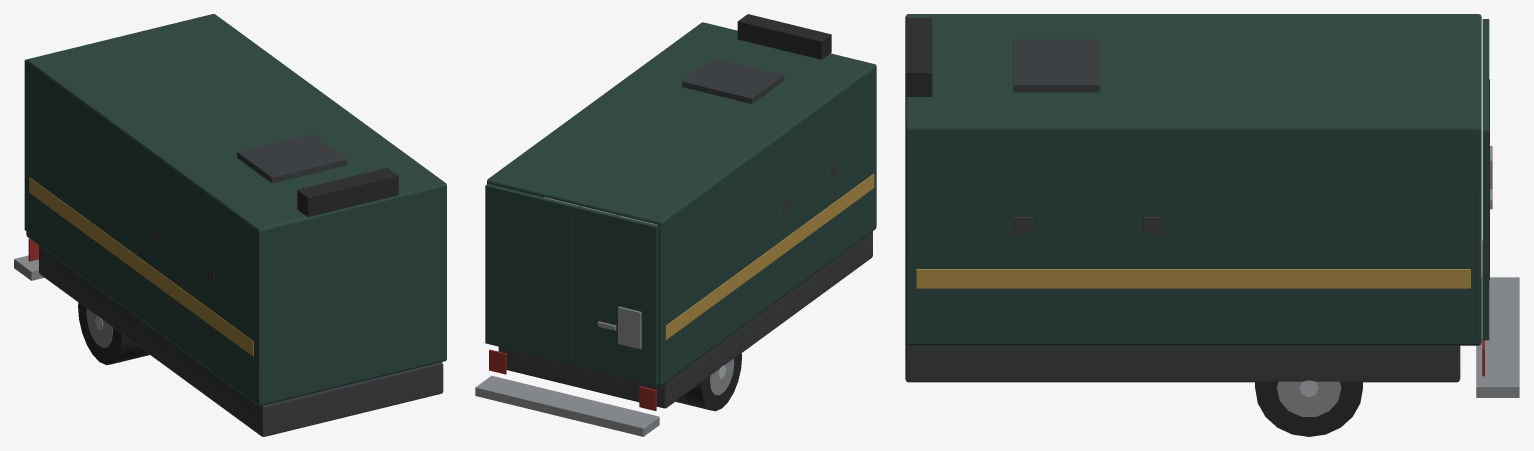
File: veh_armored_truck_cash.glb
3 renders of one model, left to right at view 1: azimuth 30°, elevation 25°; view 2: azimuth 150°, elevation 25°; view 3: azimuth 270°, elevation 25°, orthographic. The views are drawn at different scales.
Visible parts, largest first — view 1: Body, Wheels, Rear, DoorMesh; view 2: Body, DoorMesh, Rear, Wheels; view 3: Body, Wheels, Rear, DoorMesh.
Boxes of the visible parts, bbox=[...] form: Body: bbox=[26, 14, 446, 436]; Wheels: bbox=[78, 302, 149, 365]; Rear: bbox=[14, 238, 44, 280]; DoorMesh: bbox=[24, 59, 27, 230]; Body: bbox=[487, 14, 876, 408]; DoorMesh: bbox=[485, 184, 658, 384]; Rear: bbox=[475, 349, 659, 436]; Wheels: bbox=[675, 353, 741, 411]; Body: bbox=[905, 14, 1481, 382]; Wheels: bbox=[1255, 380, 1362, 436]; Rear: bbox=[1476, 241, 1519, 397]; DoorMesh: bbox=[1482, 19, 1492, 340].
Bounding box in the file's own units: 2.52 × 3.45 × 5.69.
